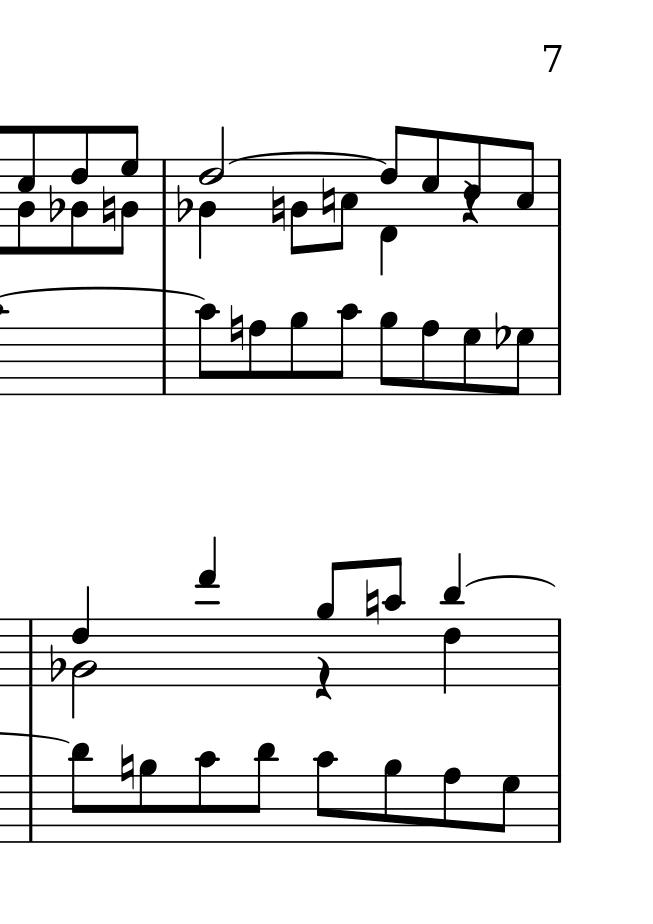4_13: (196, 535, 219, 689)
4_6: (442, 616, 463, 695)
7: (542, 41, 562, 74)
8_10: (330, 301, 360, 396), (384, 556, 404, 689), (192, 302, 219, 396), (314, 750, 336, 845), (197, 750, 219, 843)
8_11: (247, 740, 277, 842), (68, 740, 92, 845)
8_2: (290, 160, 309, 257)
8_3: (335, 159, 359, 253), (514, 140, 535, 228)
8_5: (421, 126, 439, 226)
8_7: (507, 326, 536, 396), (492, 774, 520, 844), (461, 326, 482, 396)
8_8: (441, 767, 464, 845), (247, 318, 268, 399), (420, 319, 441, 398)
8_9: (382, 759, 404, 843), (138, 758, 158, 844), (379, 311, 399, 396), (289, 312, 309, 396)
Flat: (48, 643, 66, 684), (47, 184, 64, 224), (175, 184, 192, 224), (492, 310, 506, 351)
Natural: (318, 174, 337, 226), (118, 741, 135, 792), (364, 577, 381, 626), (270, 186, 287, 233), (101, 185, 117, 233), (228, 303, 244, 351)
Rests4: (313, 655, 334, 703)
Single_barline: (551, 160, 567, 226), (156, 328, 172, 394), (22, 620, 38, 685), (552, 328, 567, 394), (157, 159, 171, 228), (22, 776, 37, 840), (552, 621, 566, 687), (552, 776, 566, 842)
Slur: (1, 286, 209, 300), (229, 151, 391, 163), (465, 573, 559, 588)
